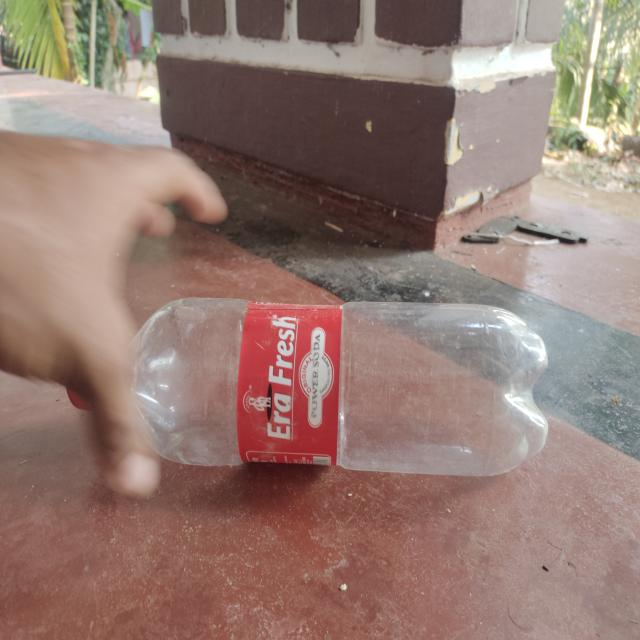plastic: (158, 294, 548, 483)
